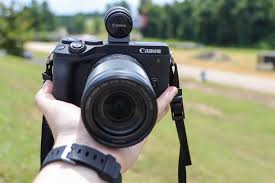camera: (52, 9, 179, 148)
